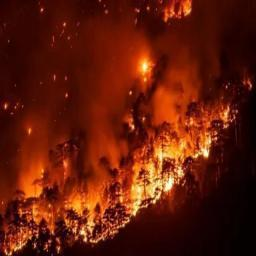Heavy smoke: (13, 10, 233, 205)
Large fire: (0, 0, 255, 255)
